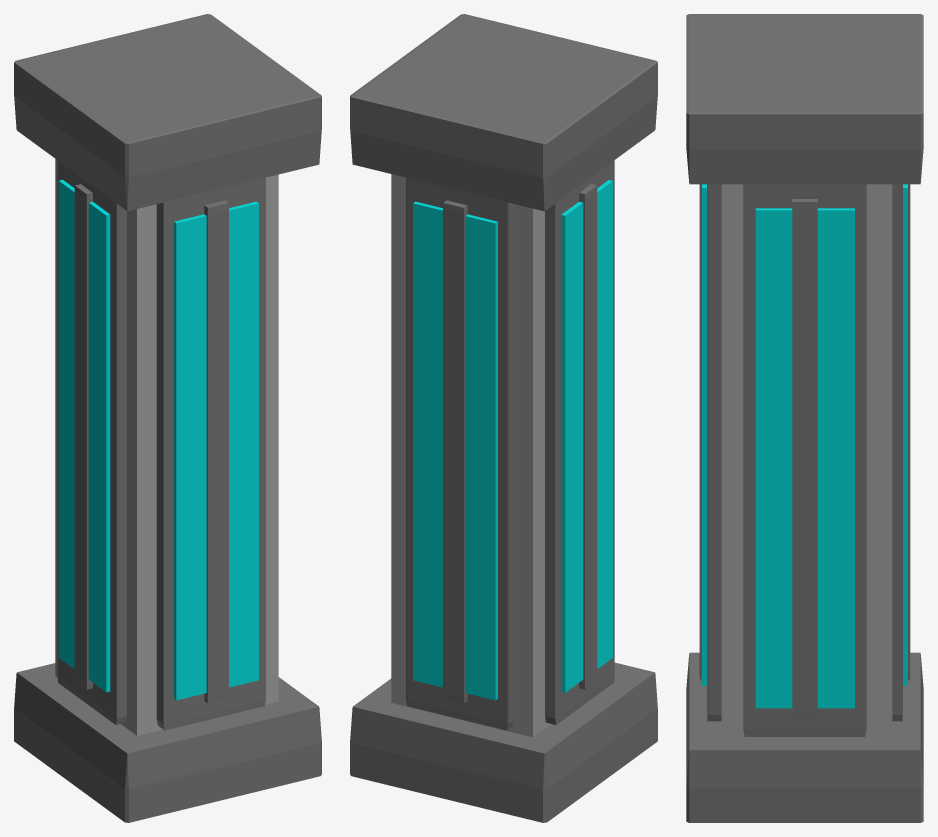
Rendered from pillar.fbx.
3 renders of one model, left to right at view 1: azimuth 30°, elevation 25°; view 2: azimuth 150°, elevation 25°; view 3: azimuth 270°, elevation 25°, orthographic. The views are drawn at different scales.
Parts seen in each view (by area): view 1: pillarMerge; view 2: pillarMerge; view 3: pillarMerge.
Boxes of the visible parts, x1,y1,x2,y2 form: pillarMerge: (14,14,321,822); pillarMerge: (350,14,657,822); pillarMerge: (686,14,923,822).
Bounding box in the file's own units: 1.8 × 5.94 × 1.8.
